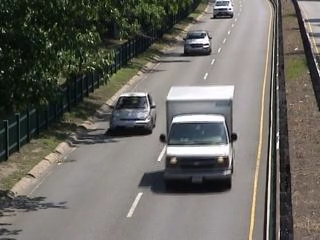car: (110, 91, 158, 137), (182, 29, 215, 57), (211, 1, 235, 19)
truck: (160, 85, 240, 188)
